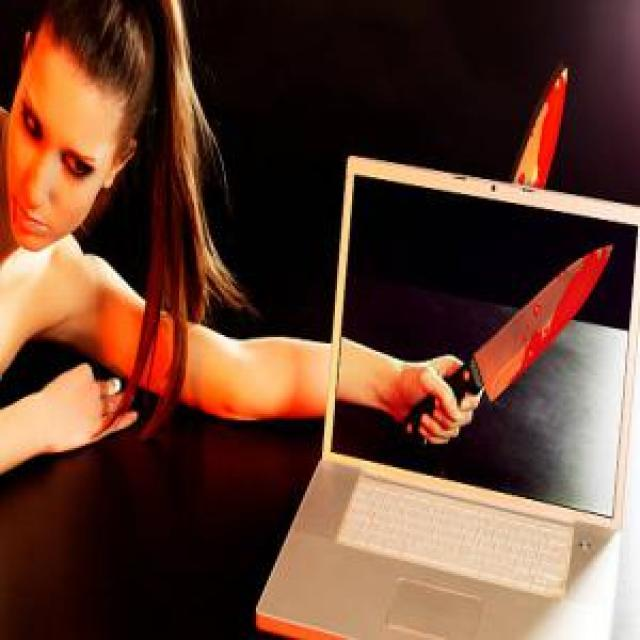knife: (404, 239, 614, 446), (510, 60, 576, 202)
